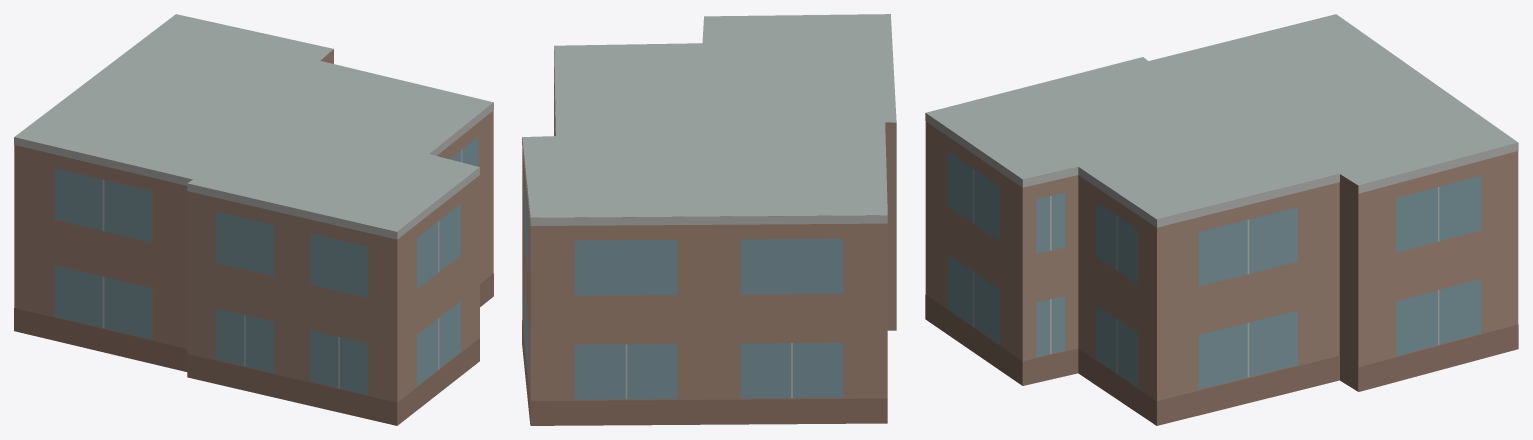
Rendered from survey-upis-32597024.glb.
3 renders of one model, left to right at view 1: azimuth 30°, elevation 25°; view 2: azimuth 150°, elevation 25°; view 3: azimuth 270°, elevation 25°, orthographic. The views are drawn at different scales.
Parts seen in each view (by area): view 1: survey-upis-32597024.tmp; view 2: survey-upis-32597024.tmp; view 3: survey-upis-32597024.tmp.
Boxes of the visible parts, left/top/right/bottom form: survey-upis-32597024.tmp: left=14, top=14, right=493, bottom=425; survey-upis-32597024.tmp: left=522, top=14, right=896, bottom=425; survey-upis-32597024.tmp: left=925, top=14, right=1518, bottom=425.
Bounding box in the file's own units: 13.02 × 6.1 × 15.89.
